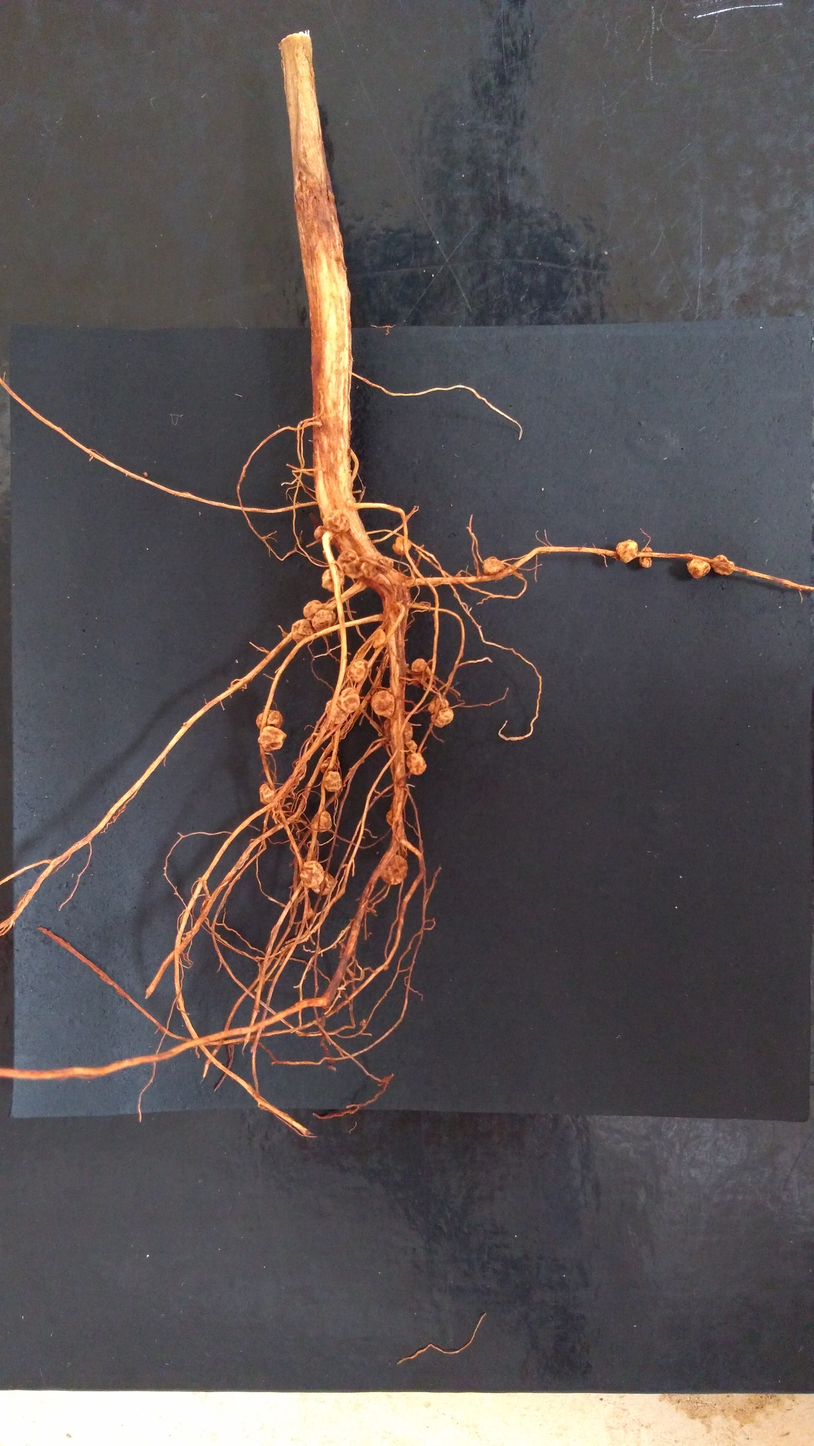nodule: (378, 853, 409, 884), (336, 548, 365, 579), (382, 714, 414, 742), (257, 725, 287, 752), (361, 554, 394, 578), (299, 860, 325, 888), (370, 689, 395, 717), (322, 509, 351, 533), (311, 870, 338, 895), (336, 686, 360, 714), (311, 608, 336, 634), (325, 698, 349, 724), (321, 568, 345, 593), (255, 710, 284, 730), (291, 618, 315, 642), (686, 558, 712, 580), (411, 657, 432, 684), (616, 539, 639, 563), (431, 706, 454, 729), (406, 751, 428, 775), (350, 660, 372, 684), (311, 809, 332, 833), (712, 554, 734, 576), (482, 556, 506, 576), (257, 782, 277, 806), (314, 525, 337, 545), (323, 770, 343, 792), (392, 536, 412, 556), (319, 755, 339, 774), (303, 600, 322, 619), (428, 696, 449, 713), (639, 547, 654, 568), (403, 739, 419, 756), (373, 628, 386, 648), (386, 808, 394, 825), (305, 907, 314, 921), (359, 1018, 367, 1026), (454, 572, 463, 578), (384, 965, 389, 971)
